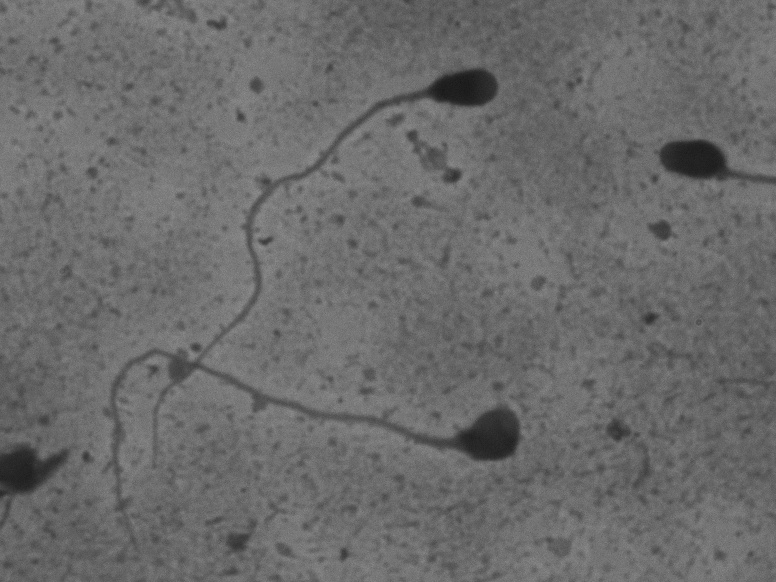Abnormal: (144, 60, 512, 476), (59, 331, 538, 542)
